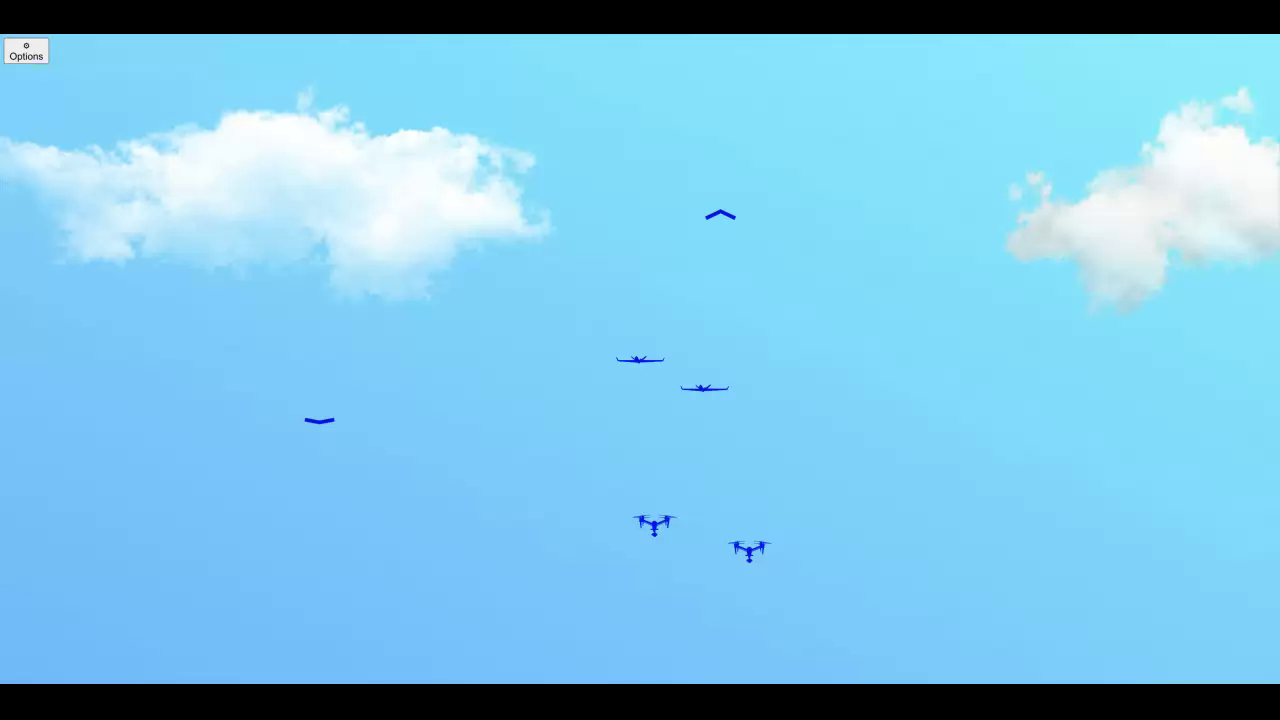Bird: (685, 188, 751, 224), (289, 401, 347, 439)
Drone: (603, 346, 689, 376), (672, 371, 737, 401)
Quadcopter: (617, 504, 687, 546), (715, 527, 776, 573)
